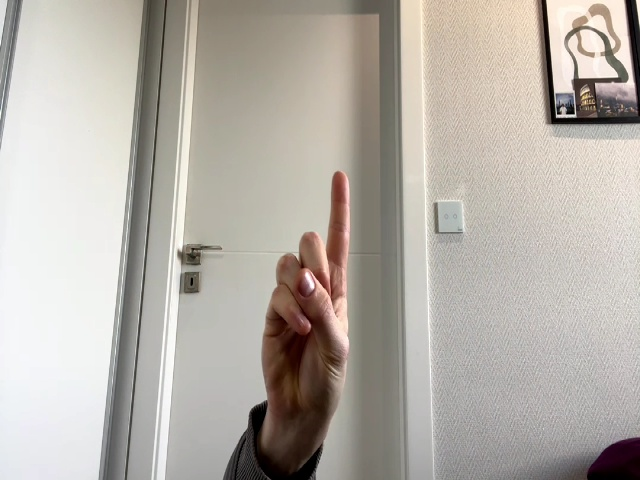Z: (261, 170, 350, 416)
